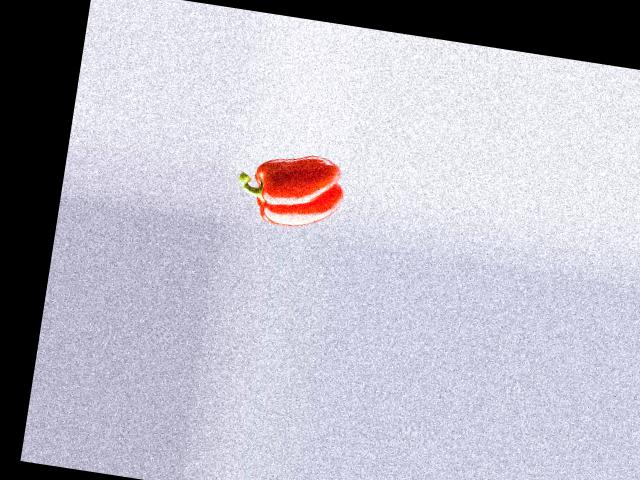bell_pepper: (231, 143, 345, 236)
